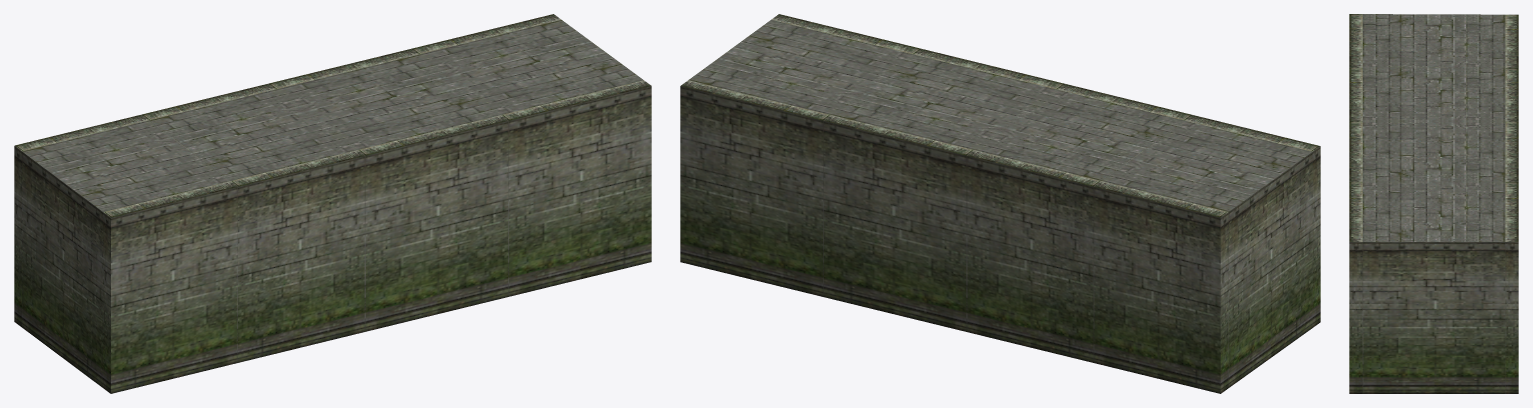
File: lianqizong_taijie04c_jz.FBX
3 renders of one model, left to right at view 1: azimuth 30°, elevation 25°; view 2: azimuth 150°, elevation 25°; view 3: azimuth 270°, elevation 25°, orthographic. The views are drawn at different scales.
Visible parts, largest first — view 1: lianqizong_taijie04c_jz_A02, lianqizong_taijie04c_jz; view 2: lianqizong_taijie04c_jz_A02, lianqizong_taijie04c_jz; view 3: lianqizong_taijie04c_jz, lianqizong_taijie04c_jz_A02.
Part boxes in pixels (<box>): lianqizong_taijie04c_jz_A02: <box>14,86,651,393</box>; lianqizong_taijie04c_jz: <box>14,14,651,217</box>; lianqizong_taijie04c_jz_A02: <box>680,86,1320,393</box>; lianqizong_taijie04c_jz: <box>681,14,1320,217</box>; lianqizong_taijie04c_jz: <box>1349,14,1518,241</box>; lianqizong_taijie04c_jz_A02: <box>1349,242,1518,393</box>.
Bounding box in the file's own units: 486 × 151 × 153.
